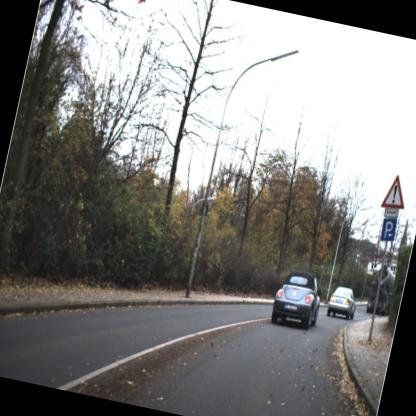danger: (376, 166, 412, 214)
